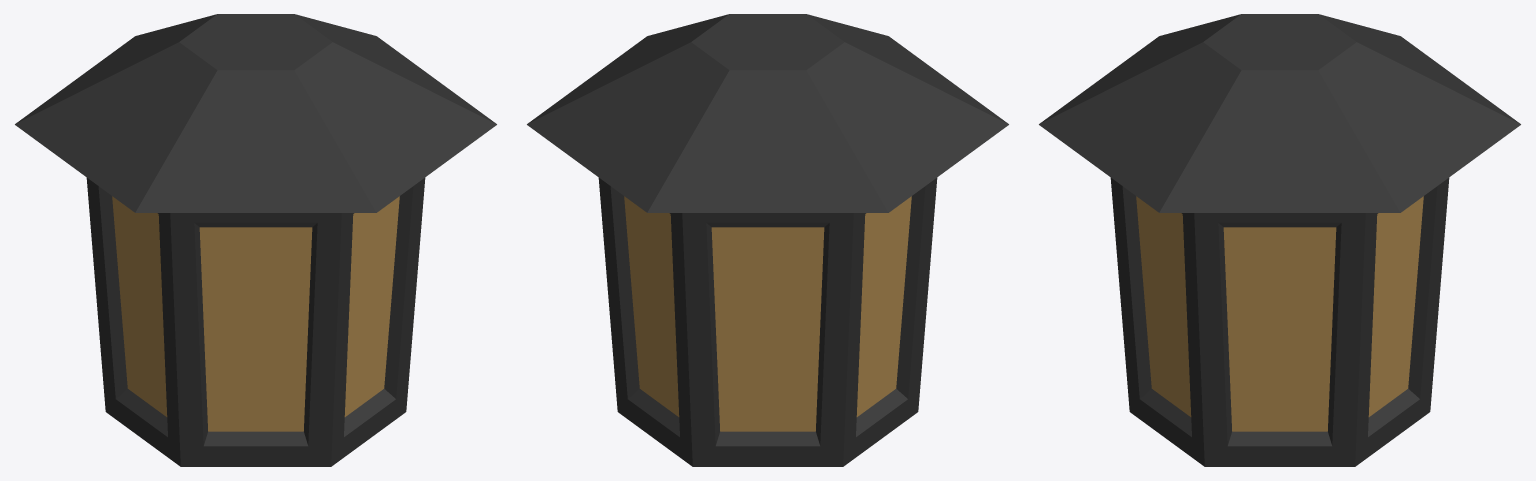
The model's file is lighter2.fbx.
3 views of the same model, side by side, from view 1: azimuth 30°, elevation 25°; view 2: azimuth 150°, elevation 25°; view 3: azimuth 270°, elevation 25° (orthographic).
Parts seen in each view (by area): view 1: Circle; view 2: Circle; view 3: Circle.
Boxes of the visible parts, bbox=[...] form: Circle: bbox=[15, 14, 496, 466]; Circle: bbox=[527, 14, 1008, 466]; Circle: bbox=[1039, 14, 1520, 466].
Size of the model in its own units: 161 by 157 by 186.
